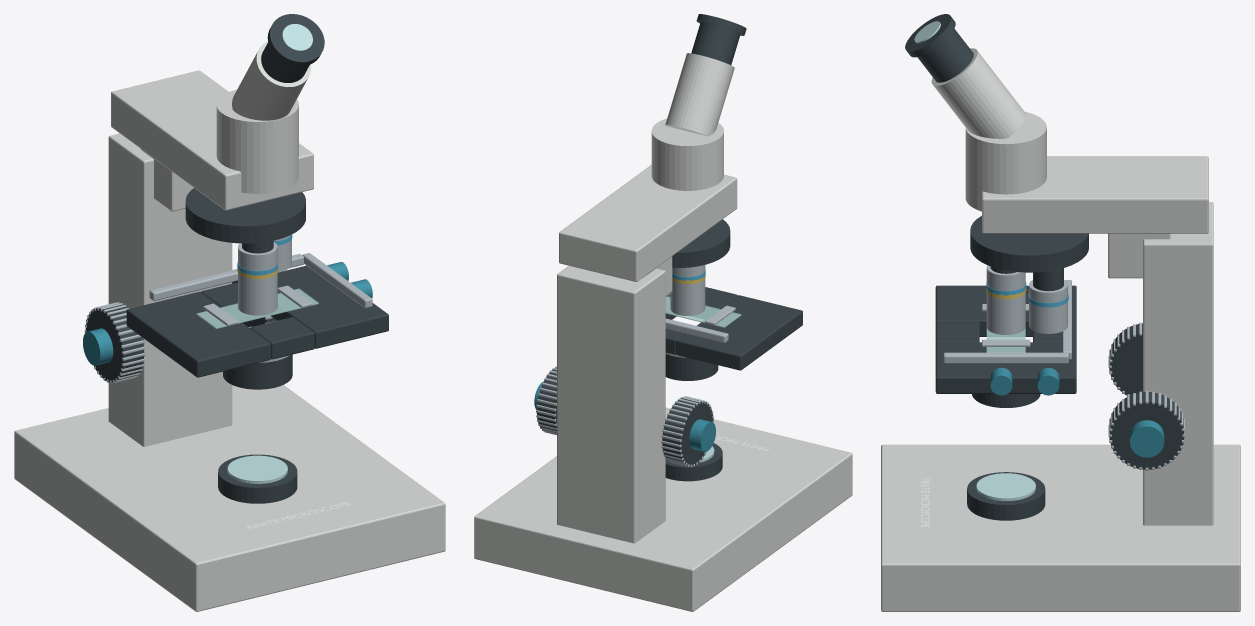
File: microscope.glb
3 views of the same model, side by side, from view 1: azimuth 30°, elevation 25°; view 2: azimuth 150°, elevation 25°; view 3: azimuth 270°, elevation 25° (orthographic). The views are drawn at different scales.
Visible parts, largest first — view 1: Base, Rear column, Upper arm, Stage left, Vertical head, Stage right, Nosepiece housing, Tube, Illuminator, Coarse focus, high barrel0, Eyecup (+12 smaller); view 2: Base, Rear column, Upper arm, Stage left, Vertical head, Tube, Coarse focus, Nosepiece housing, Eyepiece, Illuminator, high barrel0, Condenser (+5 smaller); view 3: Base, Rear column, Upper arm, Vertical head, Stage right, Tube, Nosepiece housing, Coarse focus.001, Stage left, Illuminator, Arm brace, Coarse focus (+14 smaller).
Part boxes in pixels (<box>): Base: <box>14,385,445,611</box>; Rear column: <box>108,133,232,446</box>; Upper arm: <box>111,70,313,210</box>; Stage left: <box>126,291,270,377</box>; Vertical head: <box>216,89,298,193</box>; Stage right: <box>271,265,388,348</box>; Nosepiece housing: <box>185,188,305,243</box>; Tube: <box>232,41,311,120</box>; Illuminator: <box>218,454,297,503</box>; Coarse focus: <box>85,303,144,382</box>; high barrel0: <box>238,242,277,315</box>; Eyecup: <box>267,14,324,66</box>; Base: <box>474,407,852,611</box>; Rear column: <box>557,265,665,543</box>; Upper arm: <box>559,165,737,281</box>; Stage left: <box>676,295,802,370</box>; Vertical head: <box>651,118,723,190</box>; Tube: <box>665,53,734,136</box>; Coarse focus: <box>662,398,713,466</box>; Nosepiece housing: <box>672,219,730,267</box>; Eyepiece: <box>691,22,740,64</box>; Illuminator: <box>665,443,722,481</box>; high barrel0: <box>670,265,705,315</box>; Condenser: <box>665,354,718,380</box>; Base: <box>881,444,1240,611</box>; Rear column: <box>1143,202,1213,525</box>; Upper arm: <box>982,156,1208,233</box>; Vertical head: <box>965,112,1046,211</box>; Stage right: <box>935,342,1076,393</box>; Tube: <box>931,48,1025,138</box>; Nosepiece housing: <box>970,215,1088,272</box>; Coarse focus.001: <box>1109,392,1184,469</box>; Stage left: <box>935,285,1076,336</box>; Illuminator: <box>967,472,1045,520</box>; Arm brace: <box>1108,233,1170,278</box>; Coarse focus: <box>1109,323,1142,395</box>.
Size of the model in its own units: 0.182 by 0.3792 by 0.23.
